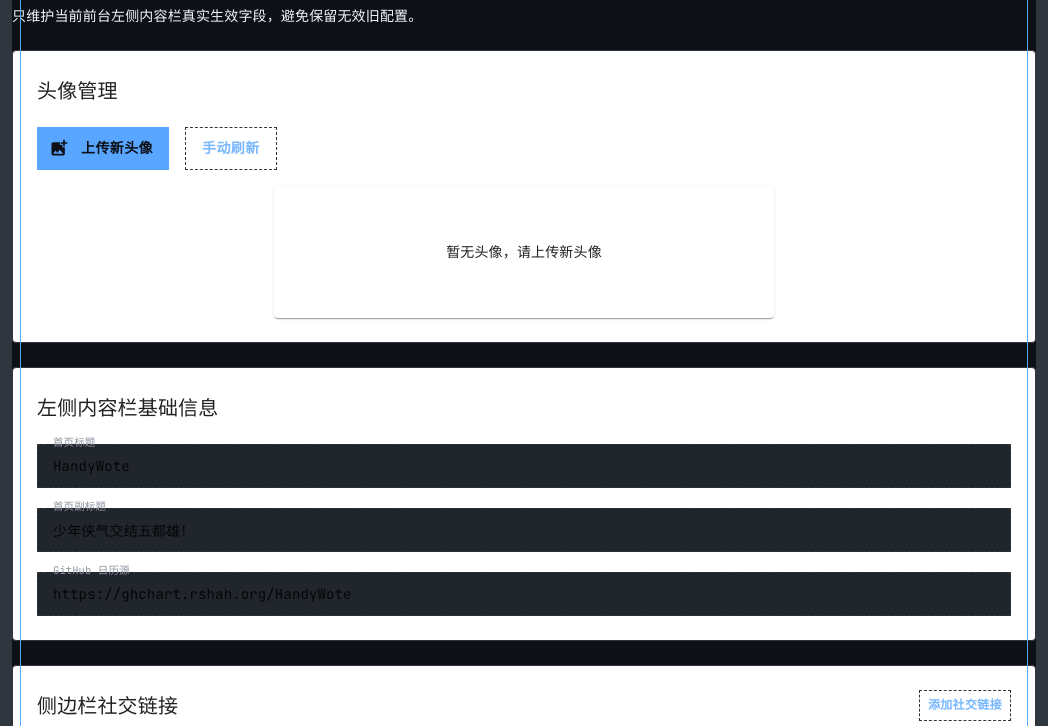
Test case: FrontendConfigManager › 新增的社交链接可以删除，删除后该条不再渲染
Click the button with test id "add-sidebar-social-link": point(965, 706) top-left (919, 690), bottom-right (1011, 721)
(page scrolled)
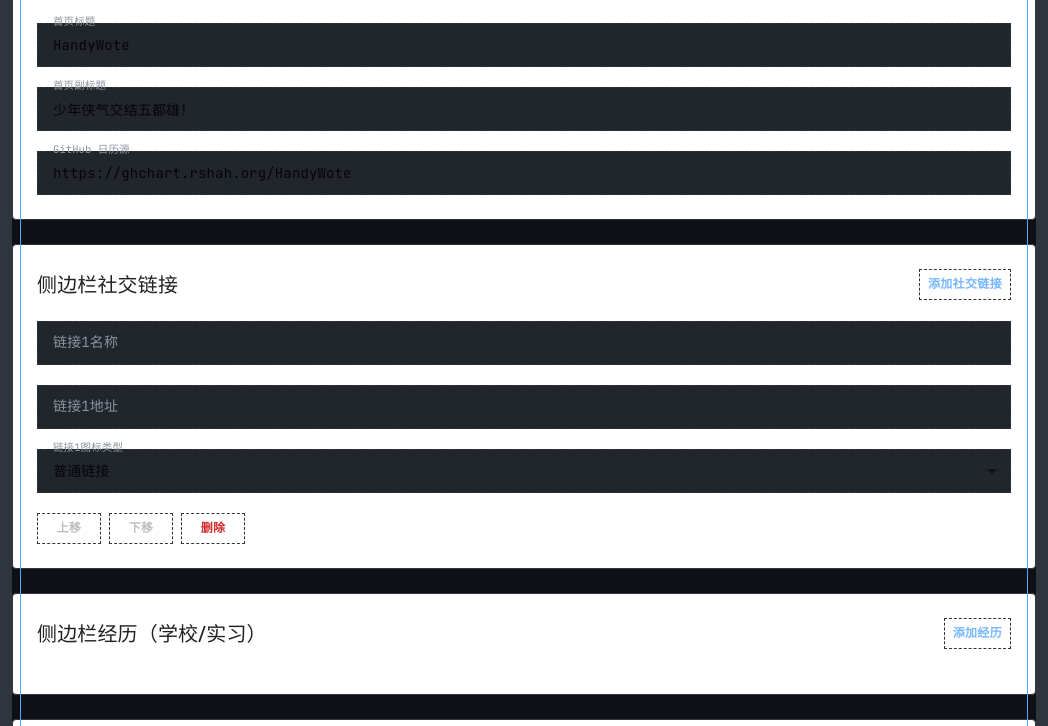
In the field labelled "链接1名称": point(524, 343) top-left (37, 321), bottom-right (1011, 365), type "临时链接"
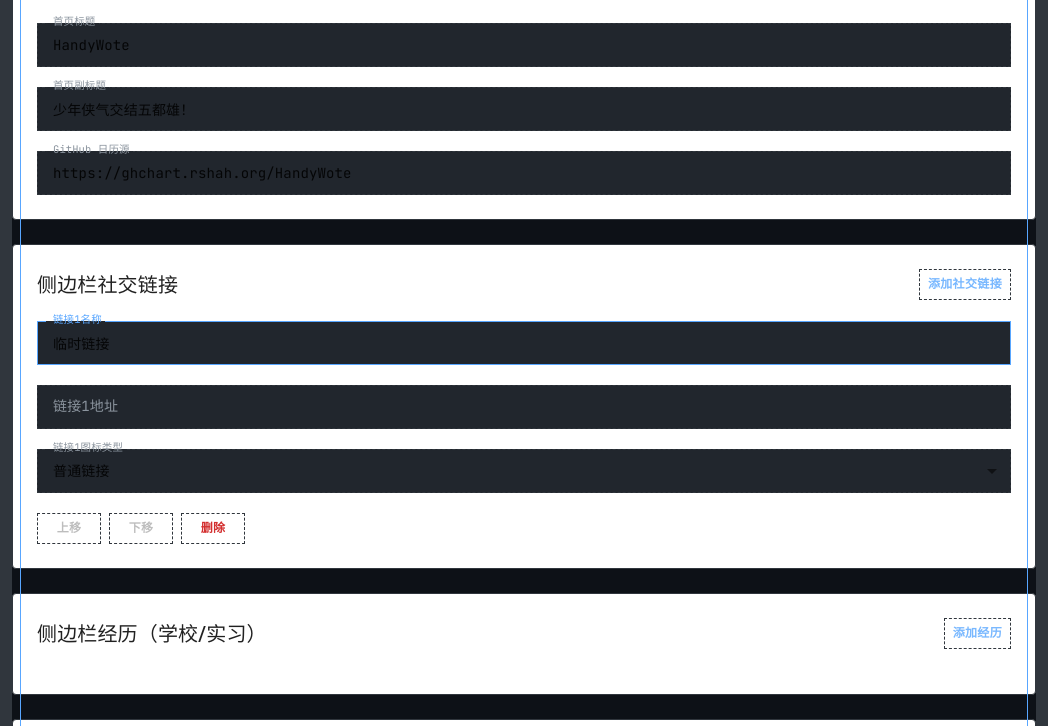
Click the button with test id "remove-sidebar-social-0": point(213, 529) top-left (181, 513), bottom-right (245, 544)
(page scrolled)
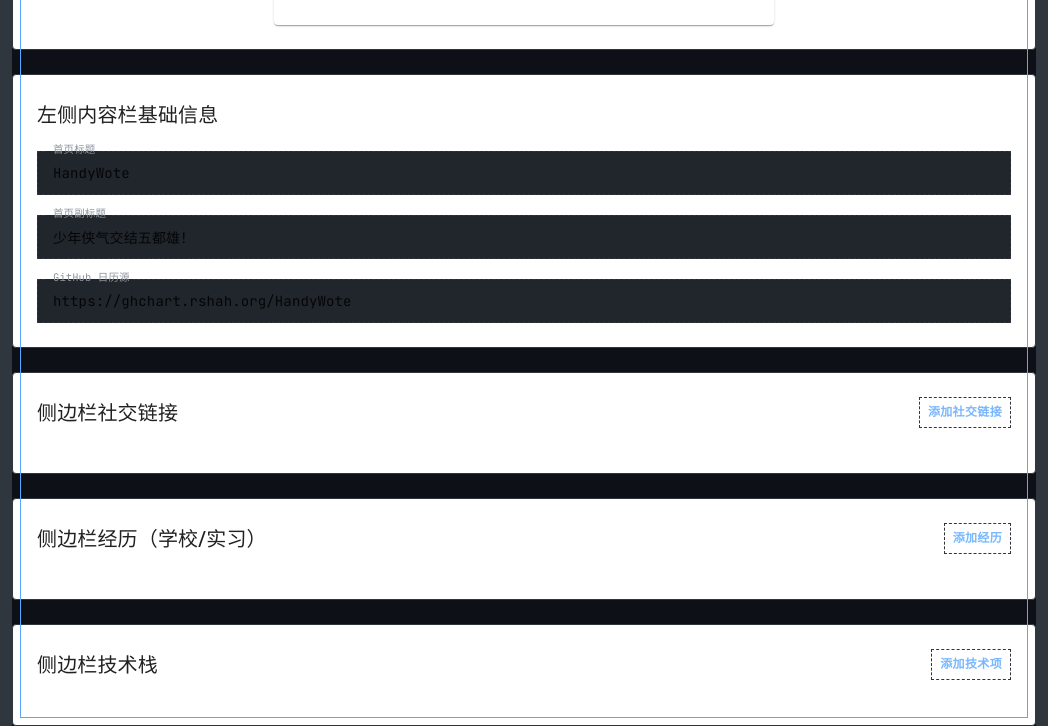
Result: the label labelled "链接1名称" is gone
Result: the button with test id "remove-sidebar-social-0" is gone
